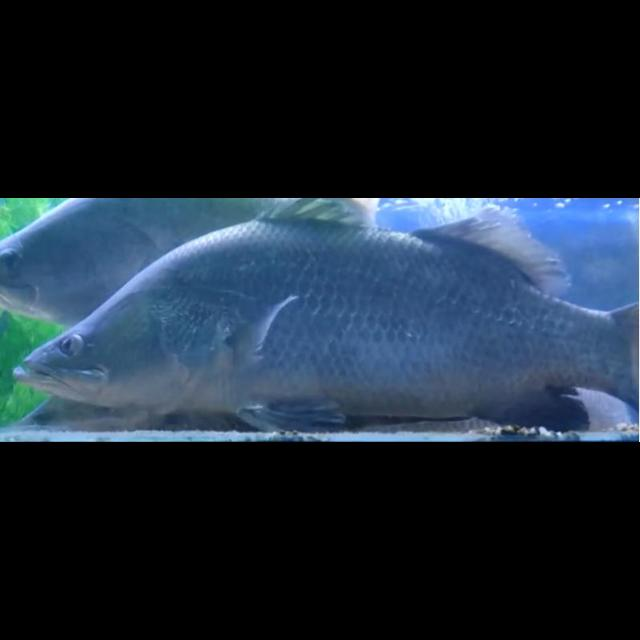Seabass: (14, 198, 640, 380)
